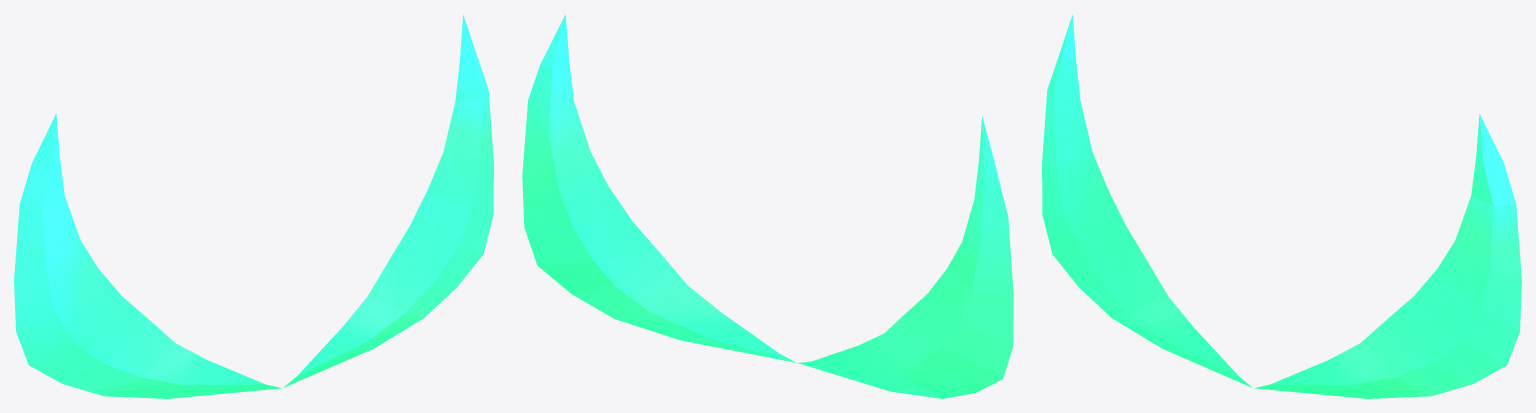
File: Player_Head_Leaf.glb
The picture shows the model from 3 angles, left to right: view 1: azimuth 30°, elevation 25°; view 2: azimuth 150°, elevation 25°; view 3: azimuth 330°, elevation 25°; orthographic projection. The views are drawn at different scales.
Visible parts, largest first — view 1: Hair; view 2: Hair; view 3: Hair.
Boxes of the visible parts, x1,y1,x2,y2 form: Hair: (14, 14, 493, 398); Hair: (522, 14, 1013, 398); Hair: (1042, 14, 1521, 398).
Bounding box in the file's own units: 2.3 × 1.41 × 0.2604.
Materials: 1 (1 with a texture image).
